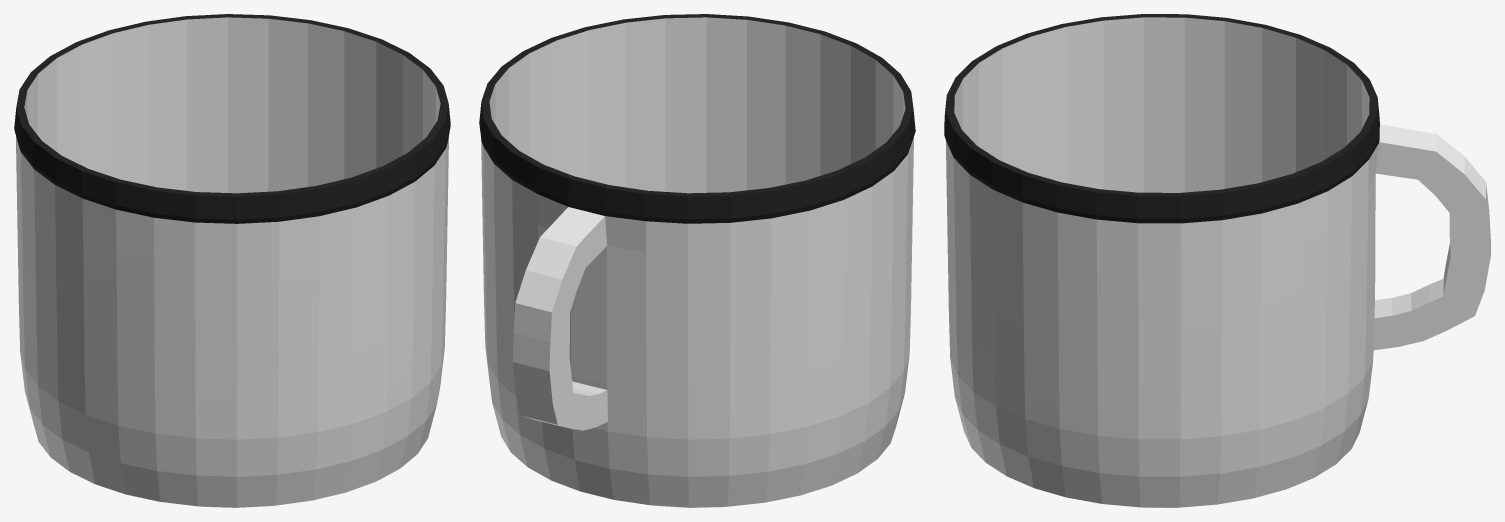
Rendered from whitecup.fbx.
3 renders of one model, left to right at view 1: azimuth 30°, elevation 25°; view 2: azimuth 150°, elevation 25°; view 3: azimuth 270°, elevation 25°, orthographic.
Parts seen in each view (by area): view 1: cupp; view 2: cupp; view 3: cupp.
Part boxes in pixels (x1,y1,x2,y2): cupp: [14, 14, 450, 507]; cupp: [479, 14, 915, 507]; cupp: [944, 14, 1490, 507].
Bounding box in the file's own units: 0.0971 × 0.1218 × 0.0831.
1 material, 1 textured.
